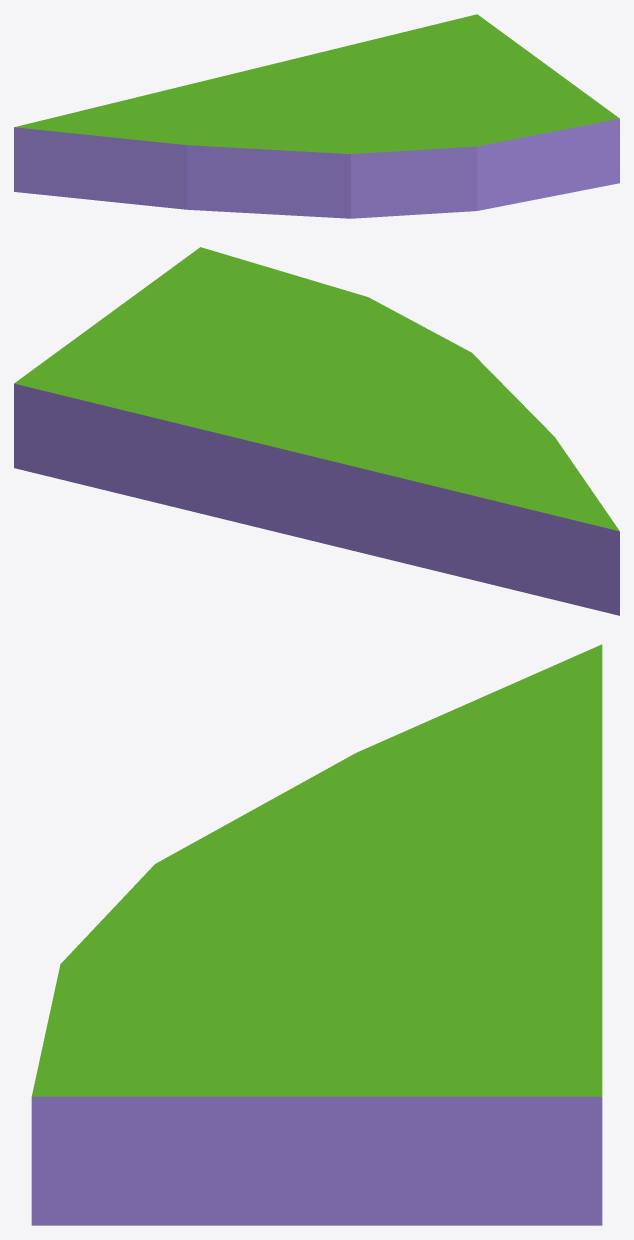
File: Tiered_Grass_45_Degrees_Curve_Inner_Outside_1x2.glb
3 renders of one model, top to bottom at view 1: azimuth 30°, elevation 25°; view 2: azimuth 150°, elevation 25°; view 3: azimuth 270°, elevation 25°, orthographic. The views are drawn at different scales.
Visible parts, largest first — view 1: Tiered_Grass_45_Degrees_Curve_Inner_Outside_1x2; view 2: Tiered_Grass_45_Degrees_Curve_Inner_Outside_1x2; view 3: Tiered_Grass_45_Degrees_Curve_Inner_Outside_1x2.
Boxes of the visible parts, box(x1,y1,x2,y2) form: Tiered_Grass_45_Degrees_Curve_Inner_Outside_1x2: box(14, 14, 619, 218); Tiered_Grass_45_Degrees_Curve_Inner_Outside_1x2: box(14, 247, 619, 615); Tiered_Grass_45_Degrees_Curve_Inner_Outside_1x2: box(31, 644, 602, 1225).
Bounding box in the file's own units: 188 × 25 × 100.
